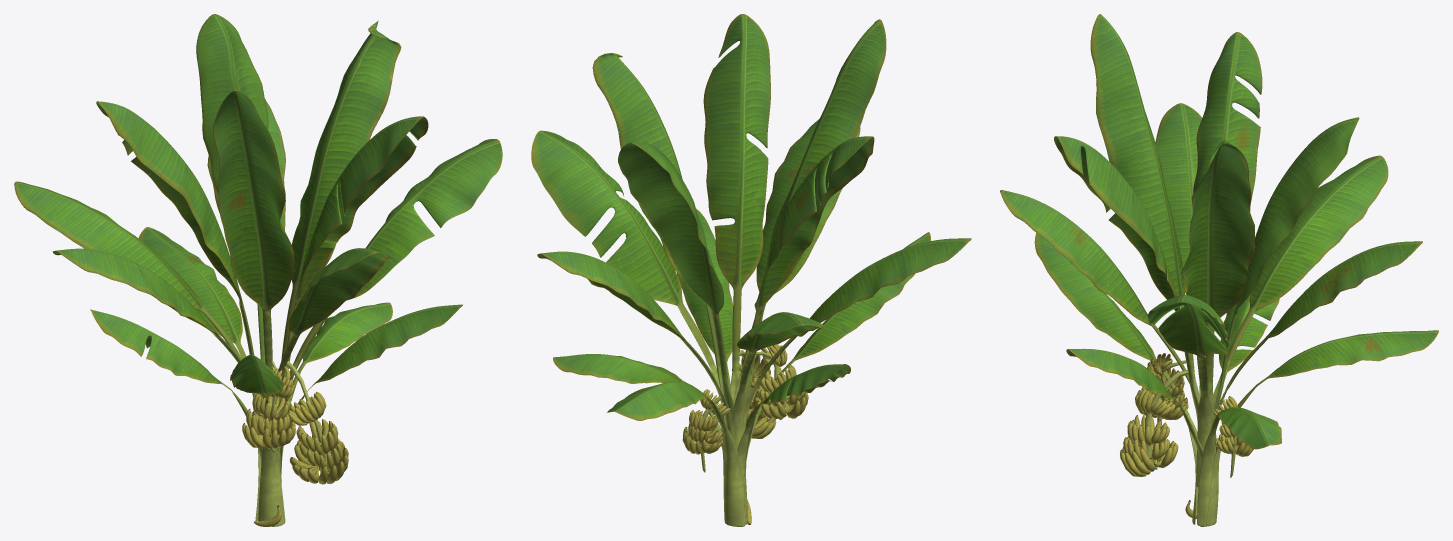
Rendered from bnn-v1.glb.
3 renders of one model, left to right at view 1: azimuth 30°, elevation 25°; view 2: azimuth 150°, elevation 25°; view 3: azimuth 270°, elevation 25°, orthographic. The views are drawn at different scales.
Visible parts, largest first — view 1: Banana tree, Trees; view 2: Banana tree, Trees; view 3: Banana tree, Trees.
Part boxes in pixels (box(x1,y1,x2,y2)): Banana tree: box(14, 14, 502, 526); Trees: box(242, 361, 348, 484); Banana tree: box(531, 14, 971, 526); Trees: box(682, 344, 808, 472); Banana tree: box(1000, 14, 1438, 526); Trees: box(1120, 353, 1253, 477).
Bounding box in the file's own units: 24.28 × 26.16 × 22.22.
2 materials, 2 textured.
